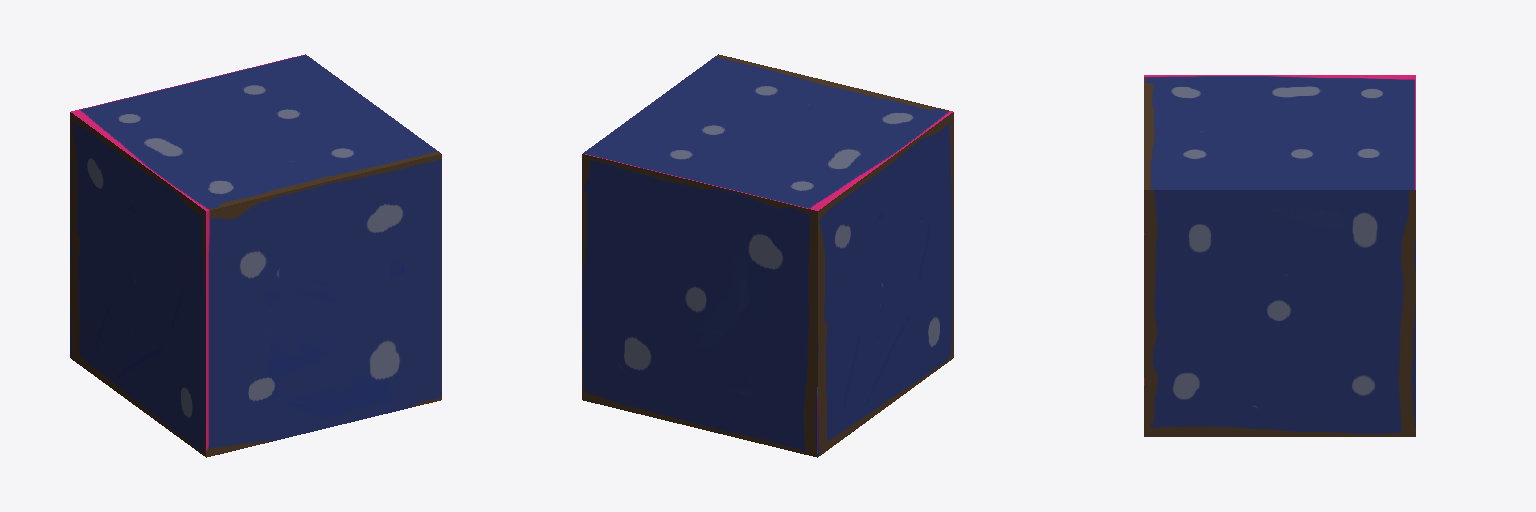
The picture shows the model from 3 angles: view 1: azimuth 30°, elevation 25°; view 2: azimuth 150°, elevation 25°; view 3: azimuth 270°, elevation 25°; orthographic projection.
Visible parts, largest first — view 1: Cube_Cube.002; view 2: Cube_Cube.002; view 3: Cube_Cube.002.
Boxes of the visible parts, box(x1,y1,x2,y2) form: Cube_Cube.002: box(70, 54, 441, 457); Cube_Cube.002: box(582, 54, 953, 457); Cube_Cube.002: box(1144, 75, 1415, 436).
Bounding box in the file's own units: 2 × 2 × 2.
1 materials, 1 textured.